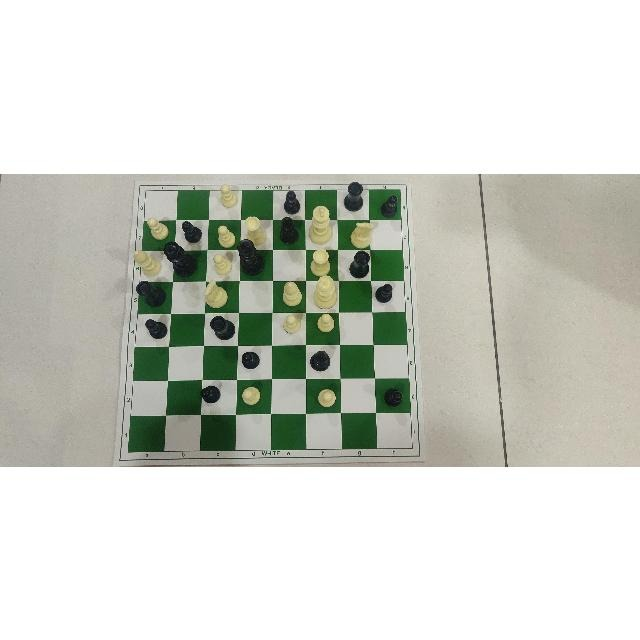black-bishop: (277, 215, 299, 243), (309, 350, 331, 372), (383, 386, 403, 406)
black-king: (237, 238, 265, 276)
black-pawn: (180, 219, 201, 241), (144, 318, 167, 338), (380, 194, 399, 218), (199, 384, 221, 404), (284, 189, 302, 213), (374, 282, 394, 302), (241, 351, 261, 369)
black-queen: (163, 240, 199, 276)
black-rook: (135, 279, 167, 305), (342, 179, 363, 210), (209, 315, 235, 339), (349, 250, 371, 278)
white-bishop: (132, 248, 161, 274), (282, 280, 302, 305)
white-king: (309, 203, 333, 243)
white-knight: (203, 277, 229, 308), (349, 220, 375, 247)
white-pawn: (144, 216, 169, 239), (211, 250, 233, 275), (281, 312, 301, 337), (240, 385, 263, 406), (219, 182, 238, 207), (215, 224, 233, 248), (318, 389, 339, 409), (316, 311, 336, 331)
white-queen: (312, 272, 336, 310)
white-rook: (309, 247, 334, 273), (243, 214, 264, 238)
